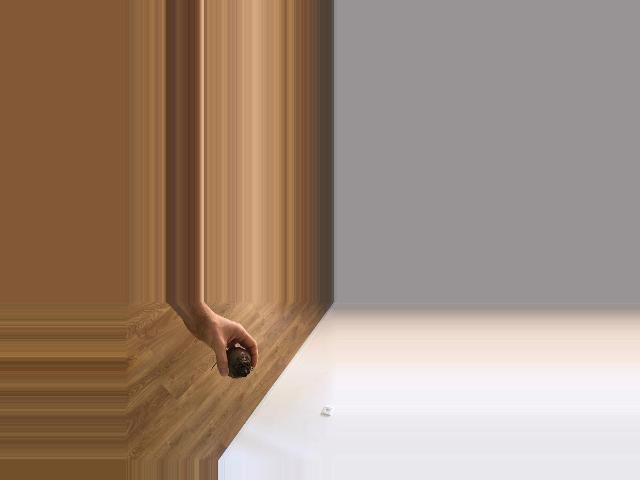beet: (211, 347, 252, 379)
